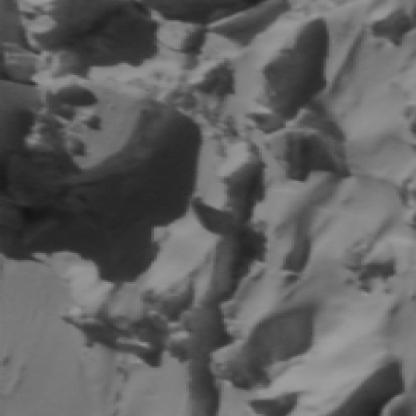polar-bear: (193, 195, 237, 234)
